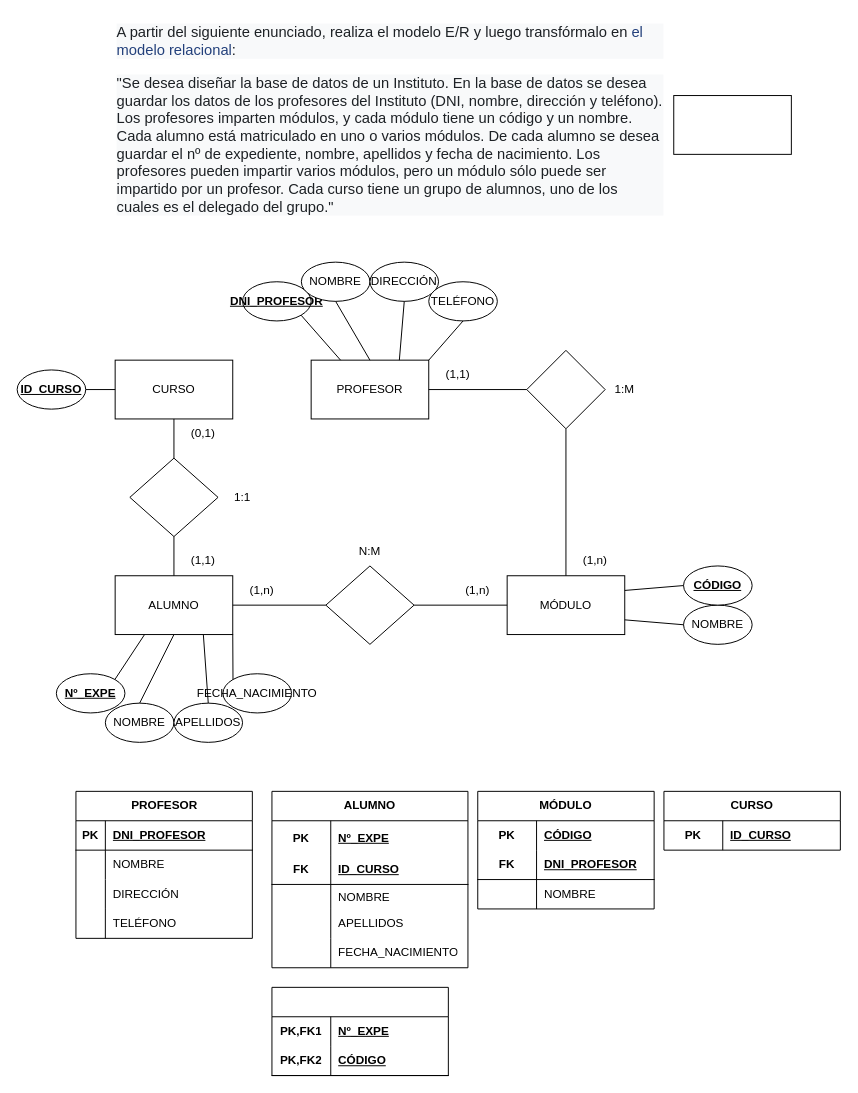
This 858x1093 diagram has some shape labels left out. Here are the shapes that lost their labels. From the top down, the box of each, then its label:
(526, 349, 605, 429): IMPARTEN
(129, 457, 218, 537): ES DELEGADO
(325, 565, 414, 644): MATRICULADO
(271, 986, 448, 1076): MÓDULO_ALUMNO
